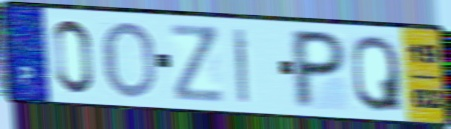0: (52, 18, 95, 96)
I: (232, 26, 251, 106)
O: (102, 18, 159, 101)
P: (292, 27, 349, 111)
Q: (350, 32, 405, 115)
Z: (167, 21, 227, 105)
